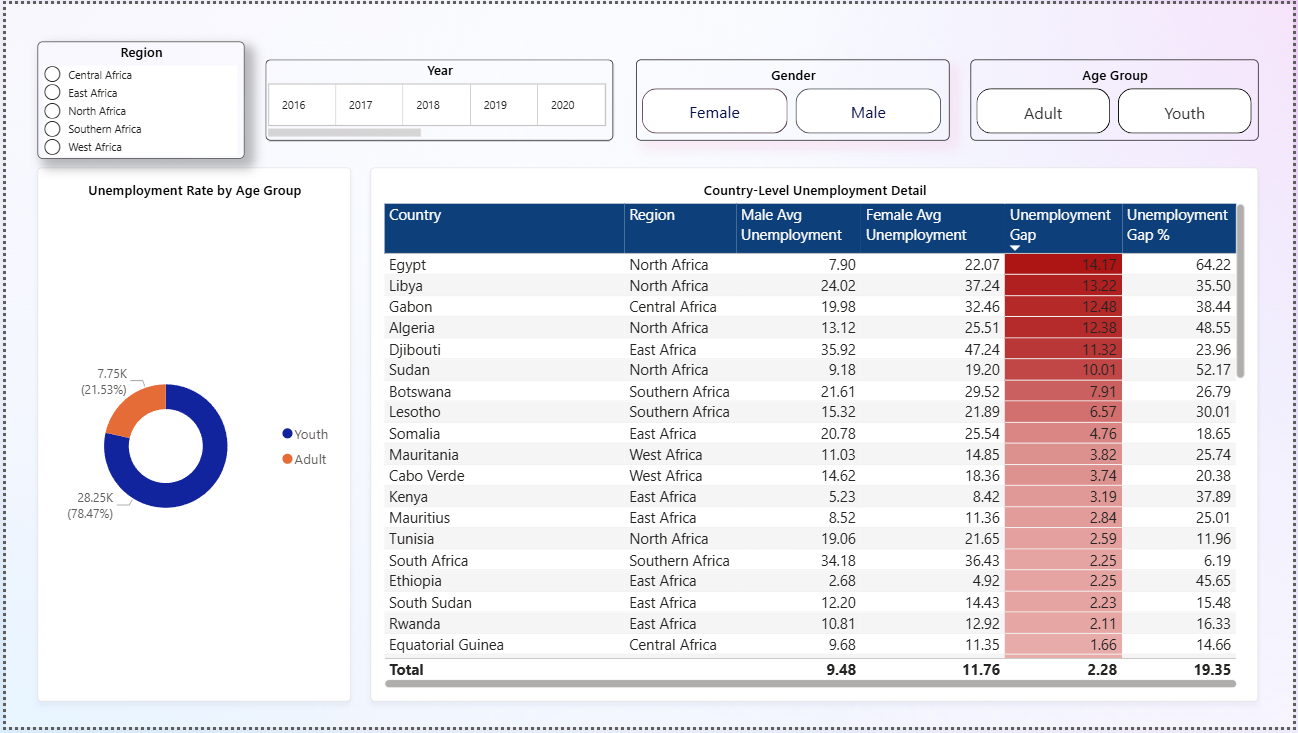

What the dashboard file says about the page in this screenshot:
{"tool":"powerbi","page":{"name":"Country Detail","canvas":[1280,720],"ordinal":1},"visuals":[{"type":"tableEx","title":"Country-Level Unemployment Detail","fields":{"Values":["final cleaned sheet.Country","final cleaned sheet.Region","final cleaned sheet.Male Avg Rate","final cleaned sheet.Female Avg Rate","final cleaned sheet.Gender Gap","final cleaned sheet.Gender Gap %"]},"box":[362.7,162.7,883.6,531.3],"z":0},{"type":"advancedSlicerVisual","fields":{"Values":["final cleaned sheet.Year"]},"box":[258.7,55.2,346.3,80.6],"z":1000},{"type":"donutChart","title":"Unemployment Rate by Age Group","fields":{"Y":["Sum(final cleaned sheet.Employment_Rate)"],"Category":["final cleaned sheet.Age_Group"]},"box":[31.3,162.7,311.9,531.3],"z":2000},{"type":"listSlicer","fields":{"Values":["final cleaned sheet.Region"]},"box":[31.3,37.3,206,116.4],"z":3000},{"type":"advancedSlicerVisual","fields":{"Values":["final cleaned sheet.Gender"]},"box":[626.4,55.2,311.9,80.6],"z":4000},{"type":"advancedSlicerVisual","title":"Age Group","fields":{"Values":["final cleaned sheet.Age_Group"]},"box":[959.7,55.2,286.6,80.6],"z":5000}]}

Visuals, with their boxes in screenshot pixels (x1, y1, x2, y2), scaled from the page's 1280x720 canvas onto the 1298x733 screenshot:
"Country-Level Unemployment Detail" tableEx: [left=368, top=166, right=1264, bottom=707]
advancedSlicerVisual - final cleaned sheet.Year: [left=262, top=56, right=614, bottom=138]
"Unemployment Rate by Age Group" donutChart: [left=32, top=166, right=348, bottom=707]
listSlicer - final cleaned sheet.Region: [left=32, top=38, right=241, bottom=156]
advancedSlicerVisual - final cleaned sheet.Gender: [left=635, top=56, right=951, bottom=138]
"Age Group" advancedSlicerVisual: [left=973, top=56, right=1264, bottom=138]
